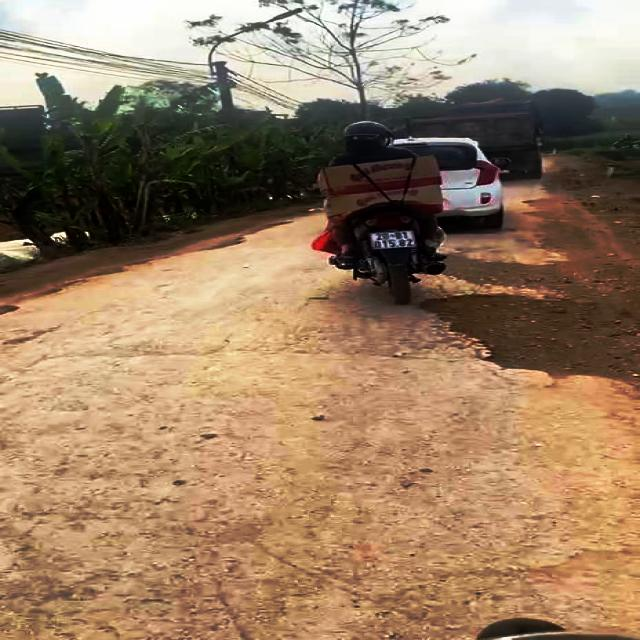pothole: (415, 291, 640, 391), (432, 254, 570, 292), (0, 279, 88, 317), (167, 229, 248, 256)
